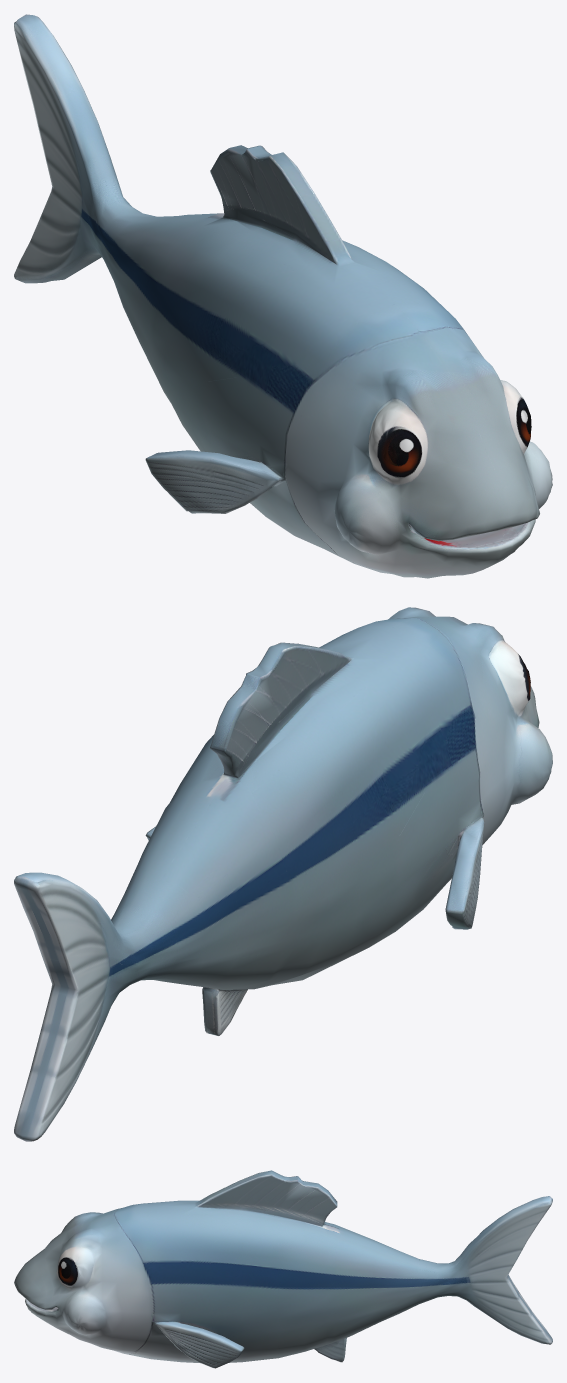
Rendered from sardines.glb.
3 renders of one model, top to bottom at view 1: azimuth 30°, elevation 25°; view 2: azimuth 150°, elevation 25°; view 3: azimuth 270°, elevation 25°, orthographic. The views are drawn at different scales.
Size of the model in its own units: 0.7162 by 0.7358 by 1.91.
Materials: 1 (1 with a texture image).
